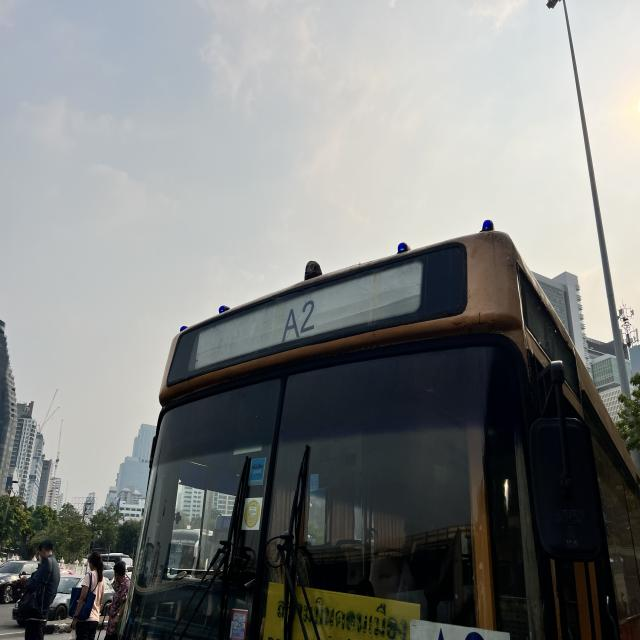BMTA-bus: (115, 205, 640, 640)
Bus-Line-Number: (279, 296, 319, 341)
Destination-Sign-Normal-Expressway: (266, 584, 418, 640)
